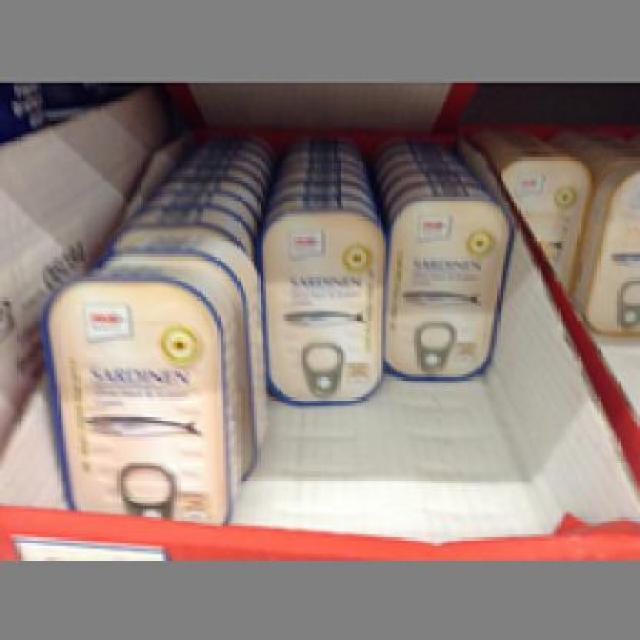Fish: (40, 266, 240, 520), (257, 206, 380, 400), (383, 194, 511, 380), (500, 152, 591, 298)
